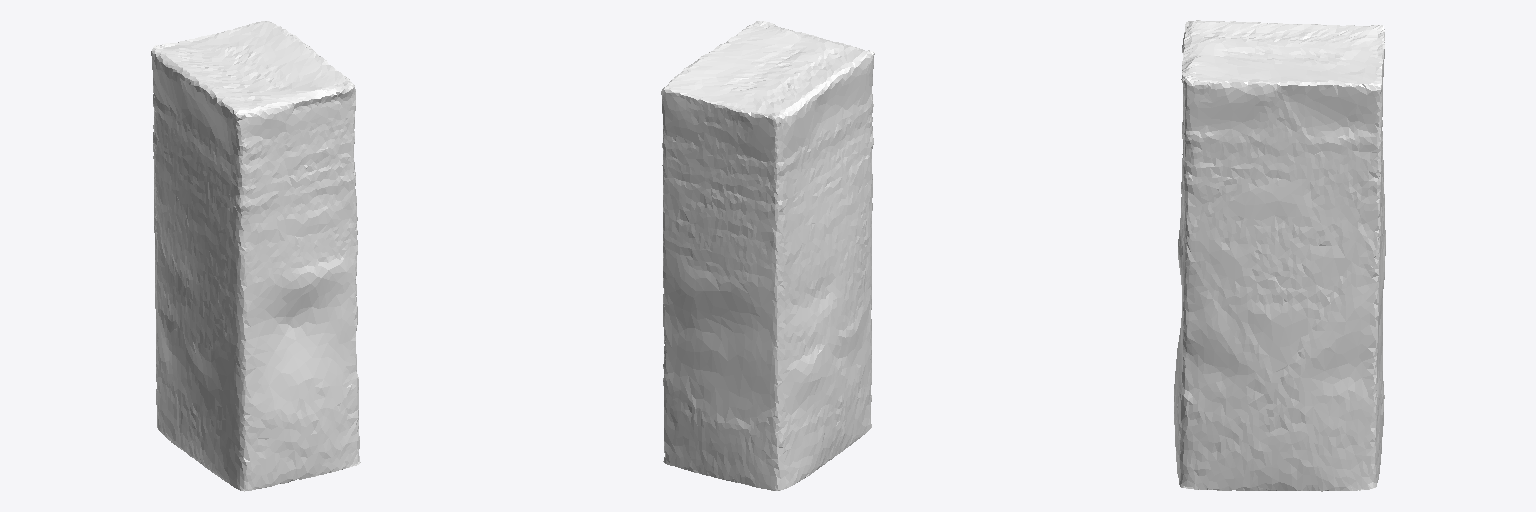
The robot description file, URDF, robot "salt":
<?xml version="1.0" ?>
<robot name="salt">
 <link name="baseLink">
   <contact>
     <lateral_friction value="0.5"/>
   </contact>
   <inertial>
     <origin rpy="0 0 0" xyz="0.000965 0.000186 -0.010622"/>
      <mass value="1.0"/>
      <inertia ixx="0.000001" ixy="-0.000000" ixz="0.000000" iyy="0.000001" iyz="-0.000000" izz="0.000000"/>
   </inertial>
   <visual>
     <origin rpy="0 0 0" xyz="0 0 0"/>
     <geometry>
       <mesh filename="salt.obj" scale="1.0 1.0 1.0"/>
     </geometry>
      <material name="white">
       <color rgba="1 1 1 1"/>
     </material>
   </visual>
   <collision>
     <origin rpy="0 0 0" xyz="0 0 0"/>
     <geometry>
       <mesh filename="salt_vhacd2.obj" scale="1.0 1.0 1.0"/>
     </geometry>
   </collision>
 </link>
</robot>

--- Facts derived from the render (not from the file) ---
3 views of the same robot in one strip: view 1: azimuth 30°, elevation 25°; view 2: azimuth 150°, elevation 25°; view 3: azimuth 270°, elevation 25° (orthographic).
Model salt with 1 links and 0 joints (none), rooted at baseLink, posed every joint at zero.
Links seen in each view (by area): view 1: baseLink; view 2: baseLink; view 3: baseLink.
Link boxes in pixels (x1,y1,x2,y2): baseLink: (151, 21, 360, 491); baseLink: (661, 21, 874, 490); baseLink: (1174, 20, 1385, 491).
Bounding box of the posed robot: 0.0526 × 0.0663 × 0.1404 m (x, y, z).
1 mesh visuals loaded from 1 distinct referenced files (1 OBJ).